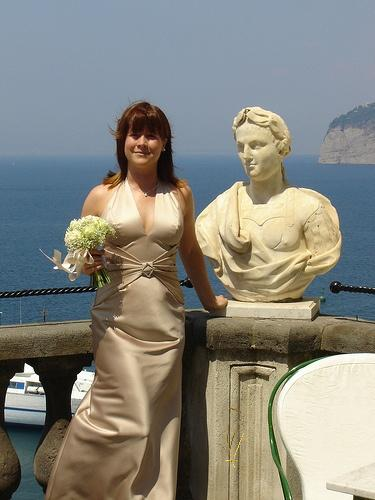tampered: (226, 409, 245, 468)
